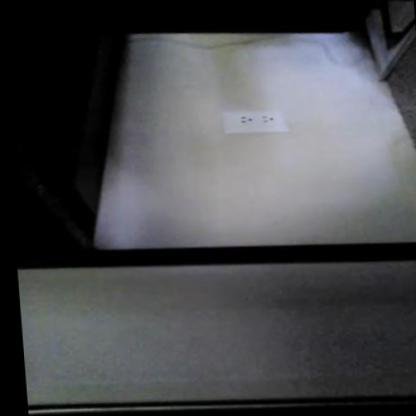OUTLET: (220, 107, 288, 133)
